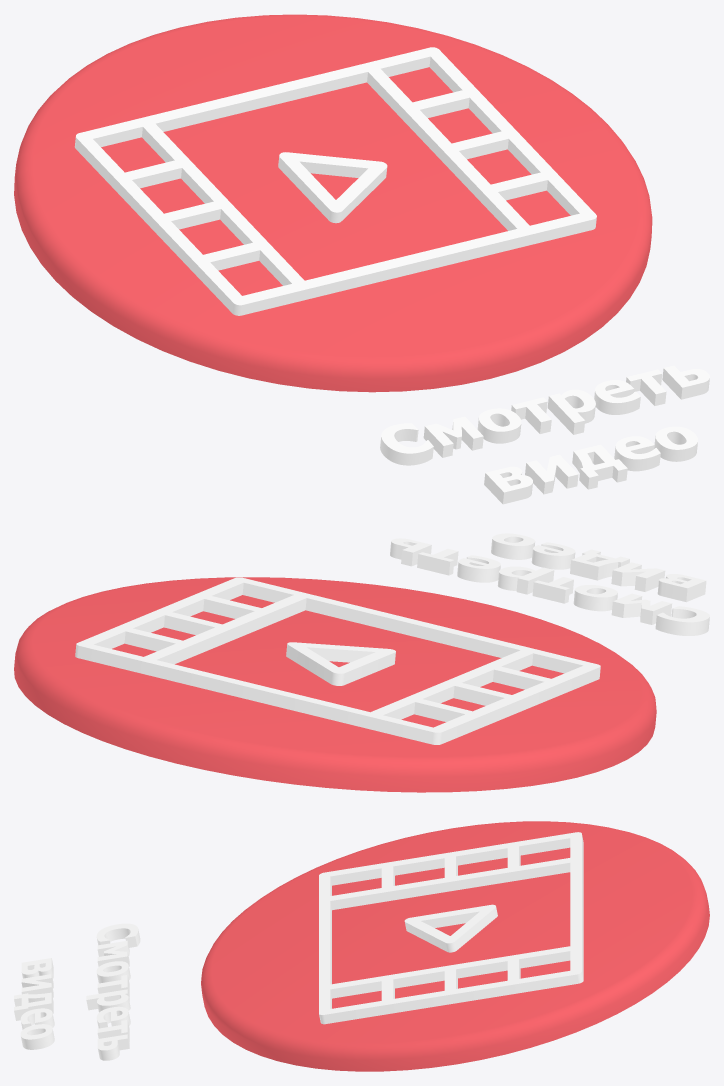
File: video.gltf
3 views of the same model, one above another, from view 1: azimuth 30°, elevation 25°; view 2: azimuth 150°, elevation 25°; view 3: azimuth 270°, elevation 25° (orthographic). The views are drawn at different scales.
Visible parts, largest first — view 1: mesh_video; view 2: mesh_video; view 3: mesh_video.
Boxes of the visible parts, x1,y1,x2,y2 form: mesh_video: (14,14,709,504); mesh_video: (14,533,709,792); mesh_video: (14,821,709,1071).
Size of the model in its own units: 2 by 0.5096 by 2.71.
